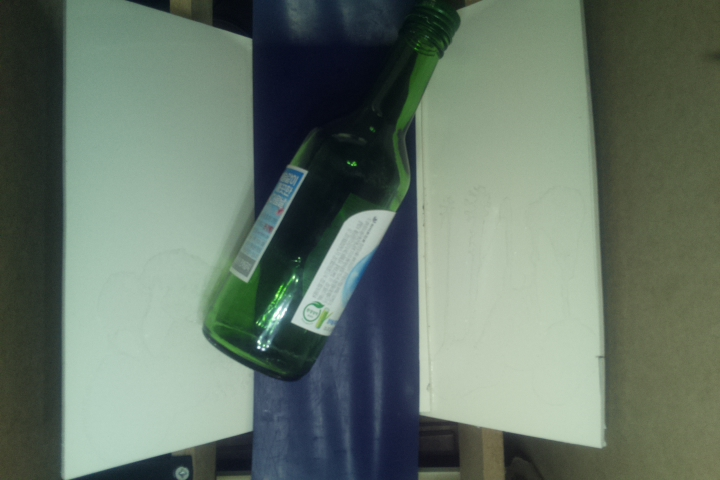soju: (201, 1, 462, 385)
